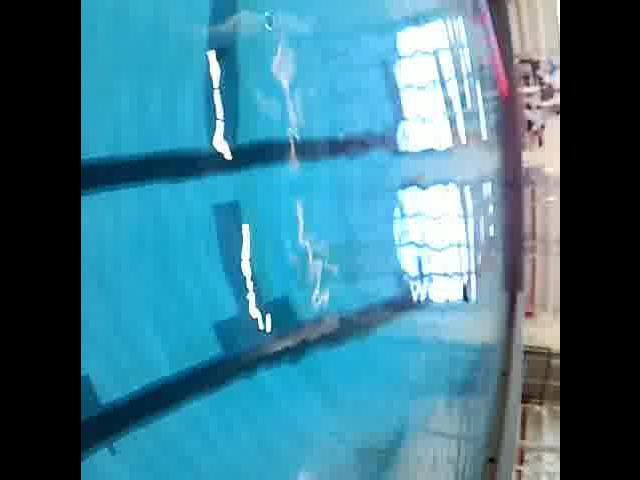CamMount: (456, 276, 471, 308)
